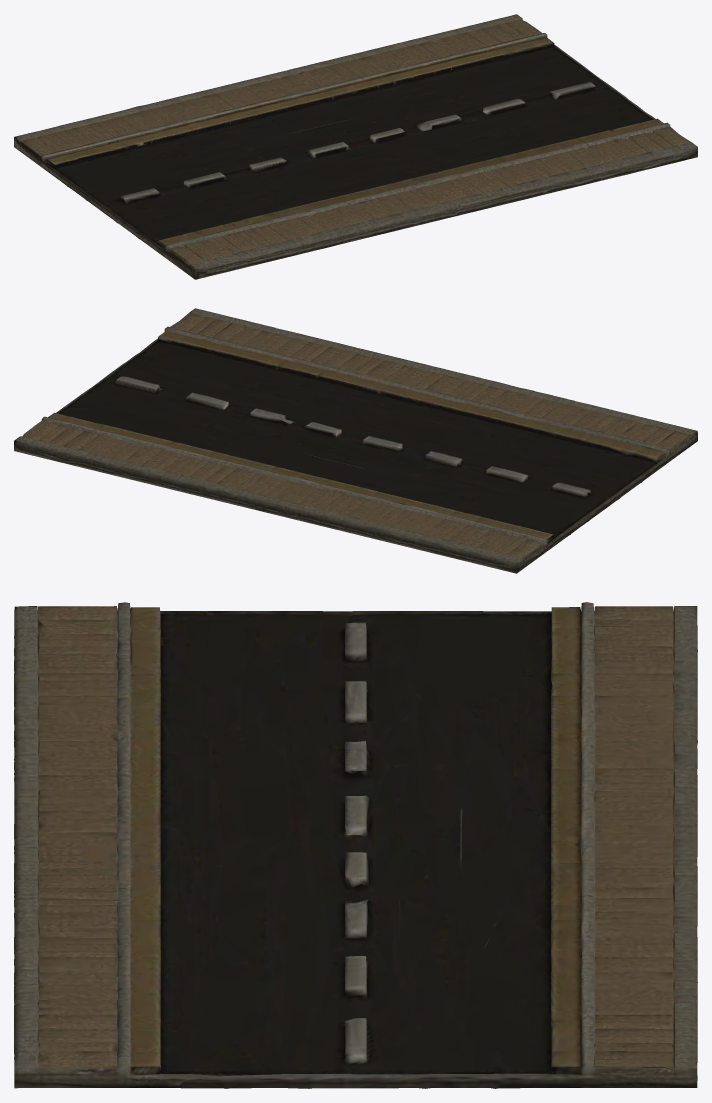
The model's file is road-segment.glb.
The picture shows the model from 3 angles, top to bottom: view 1: azimuth 30°, elevation 25°; view 2: azimuth 150°, elevation 25°; view 3: azimuth 270°, elevation 25°; orthographic projection. The views are drawn at different scales.
Parts seen in each view (by area): view 1: tripo_node_123ce287; view 2: tripo_node_123ce287; view 3: tripo_node_123ce287.
Boxes of the visible parts, x1,y1,x2,y2 form: tripo_node_123ce287: (14,14,697,279); tripo_node_123ce287: (14,308,697,573); tripo_node_123ce287: (14,602,697,1088).
Bounding box in the file's own units: 0.9828 × 0.0294 × 0.6112.
Materials: 1 (1 with a texture image).
